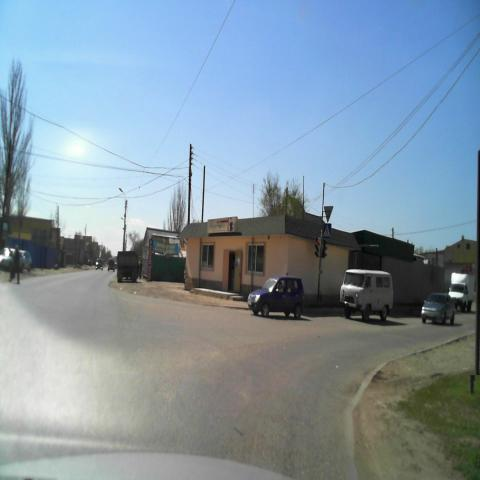5_19_1: (322, 222, 332, 239)
